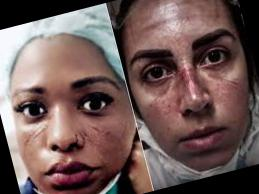mask_weared_incorrect: (127, 21, 259, 188), (9, 67, 139, 194)
